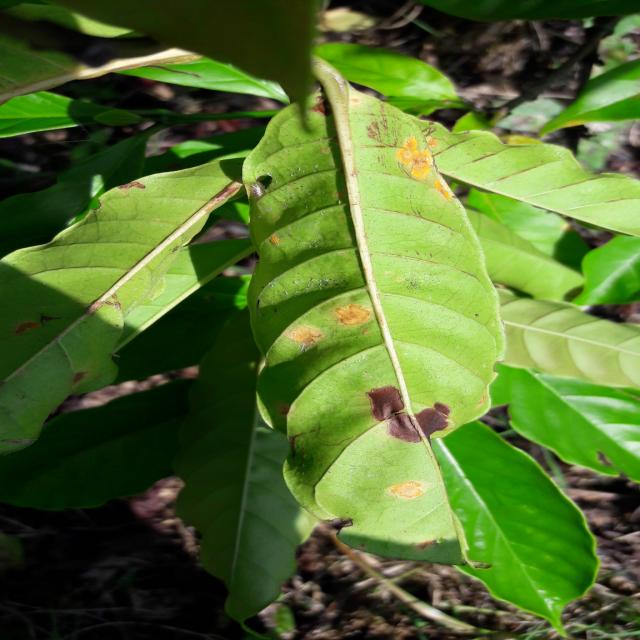Enfermedad-Roya: (246, 86, 506, 561)
